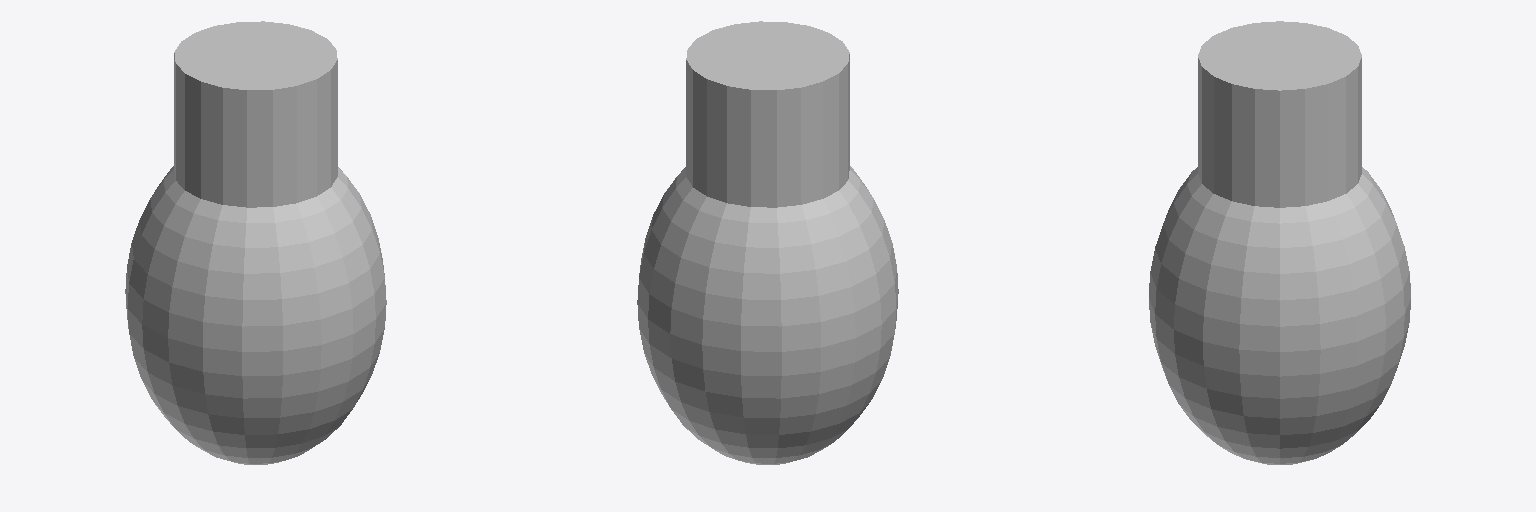
File: FocoLamp.obj
The picture shows the model from 3 angles: view 1: azimuth 30°, elevation 25°; view 2: azimuth 150°, elevation 25°; view 3: azimuth 270°, elevation 25°; orthographic projection.
Parts seen in each view (by area): view 1: pSphere2; view 2: pSphere2; view 3: pSphere2.
Part boxes in pixels (x1,y1,x2,y2): pSphere2: (125, 21, 386, 464); pSphere2: (637, 21, 898, 464); pSphere2: (1149, 21, 1410, 464).
Size of the model in its own units: 0.2343 by 0.3938 by 0.2343.